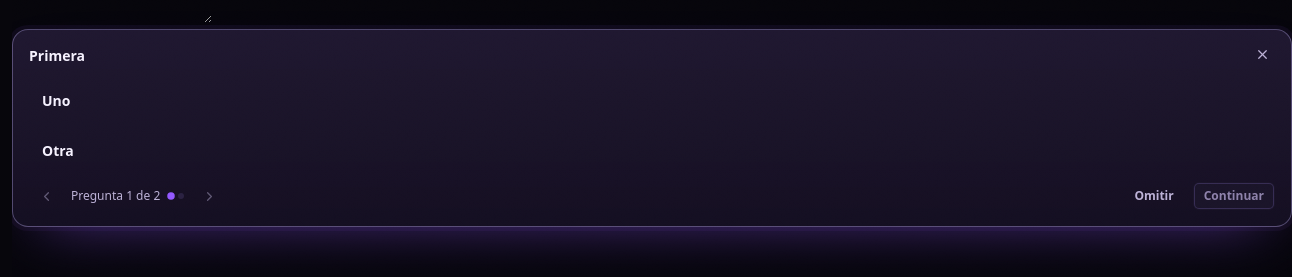
Scenario: does not take focus from the composer when it arrives, only after the user acts
Click the radio button labelled "Uno".
click(56, 100)  # box [29, 78, 1275, 124]
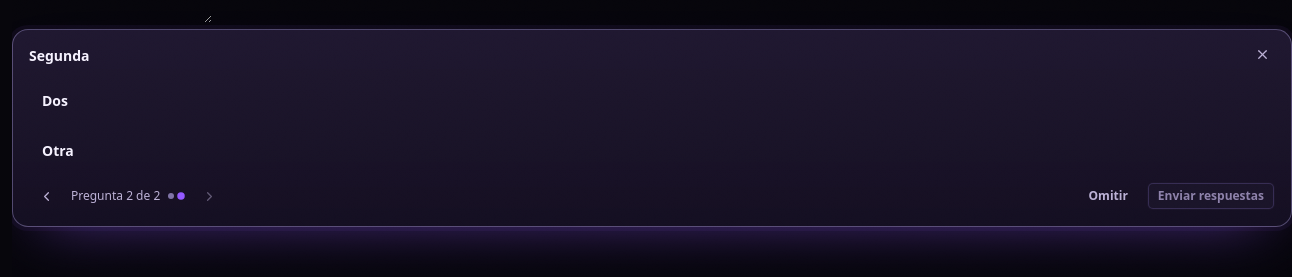
expect the heading reads "Segunda": met, box [29, 46, 90, 65]
